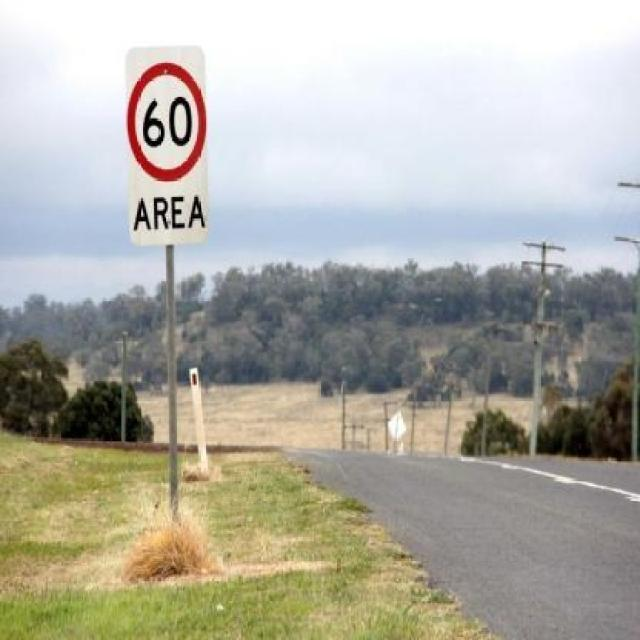forb_speed_over_60: (130, 63, 205, 180)
